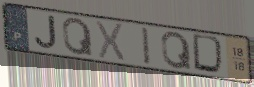D: (190, 32, 227, 77)
I: (139, 25, 153, 67)
J: (33, 15, 58, 52)
Q: (61, 17, 95, 58), (160, 30, 194, 71)
X: (95, 19, 127, 64)
